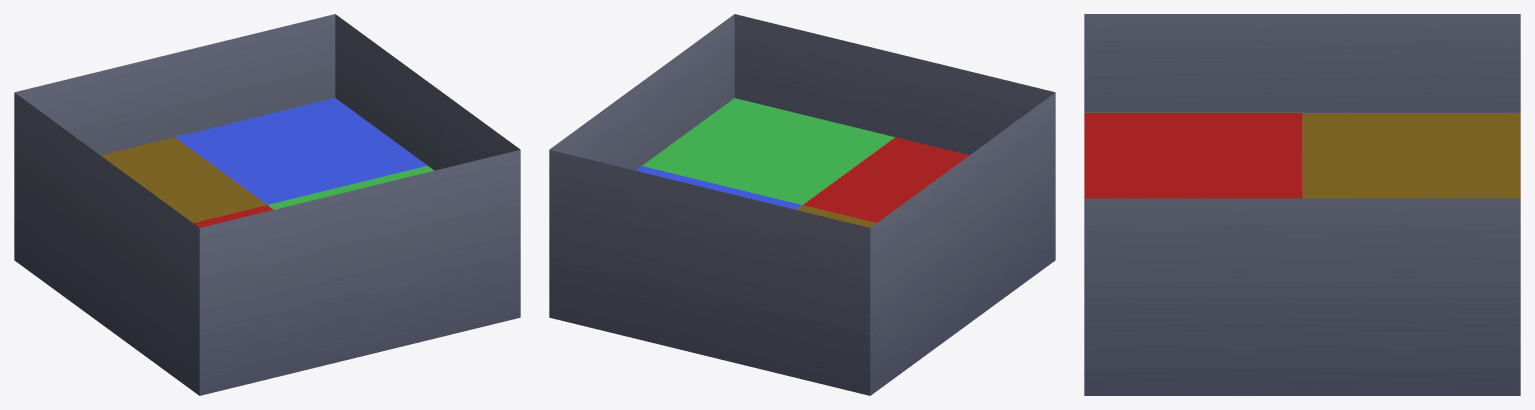
Rendered from LiquidWall-All.glb.
The picture shows the model from 3 angles, left to right: view 1: azimuth 30°, elevation 25°; view 2: azimuth 150°, elevation 25°; view 3: azimuth 270°, elevation 25°; orthographic projection. The views are drawn at different scales.
Parts seen in each view (by area): view 1: Liquid-All, LiquidFloor; view 2: Liquid-All, LiquidFloor; view 3: Liquid-All, LiquidFloor.
Part boxes in pixels (box(x1,y1,x2,y2)): Liquid-All: box(14, 14, 520, 395); LiquidFloor: box(101, 98, 433, 227); Liquid-All: box(549, 14, 1055, 395); LiquidFloor: box(636, 98, 968, 227); Liquid-All: box(1084, 14, 1520, 395); LiquidFloor: box(1084, 112, 1520, 198).
Bounding box in the file's own units: 1 × 0.5 × 1.
Materials: 2 (2 with a texture image).
